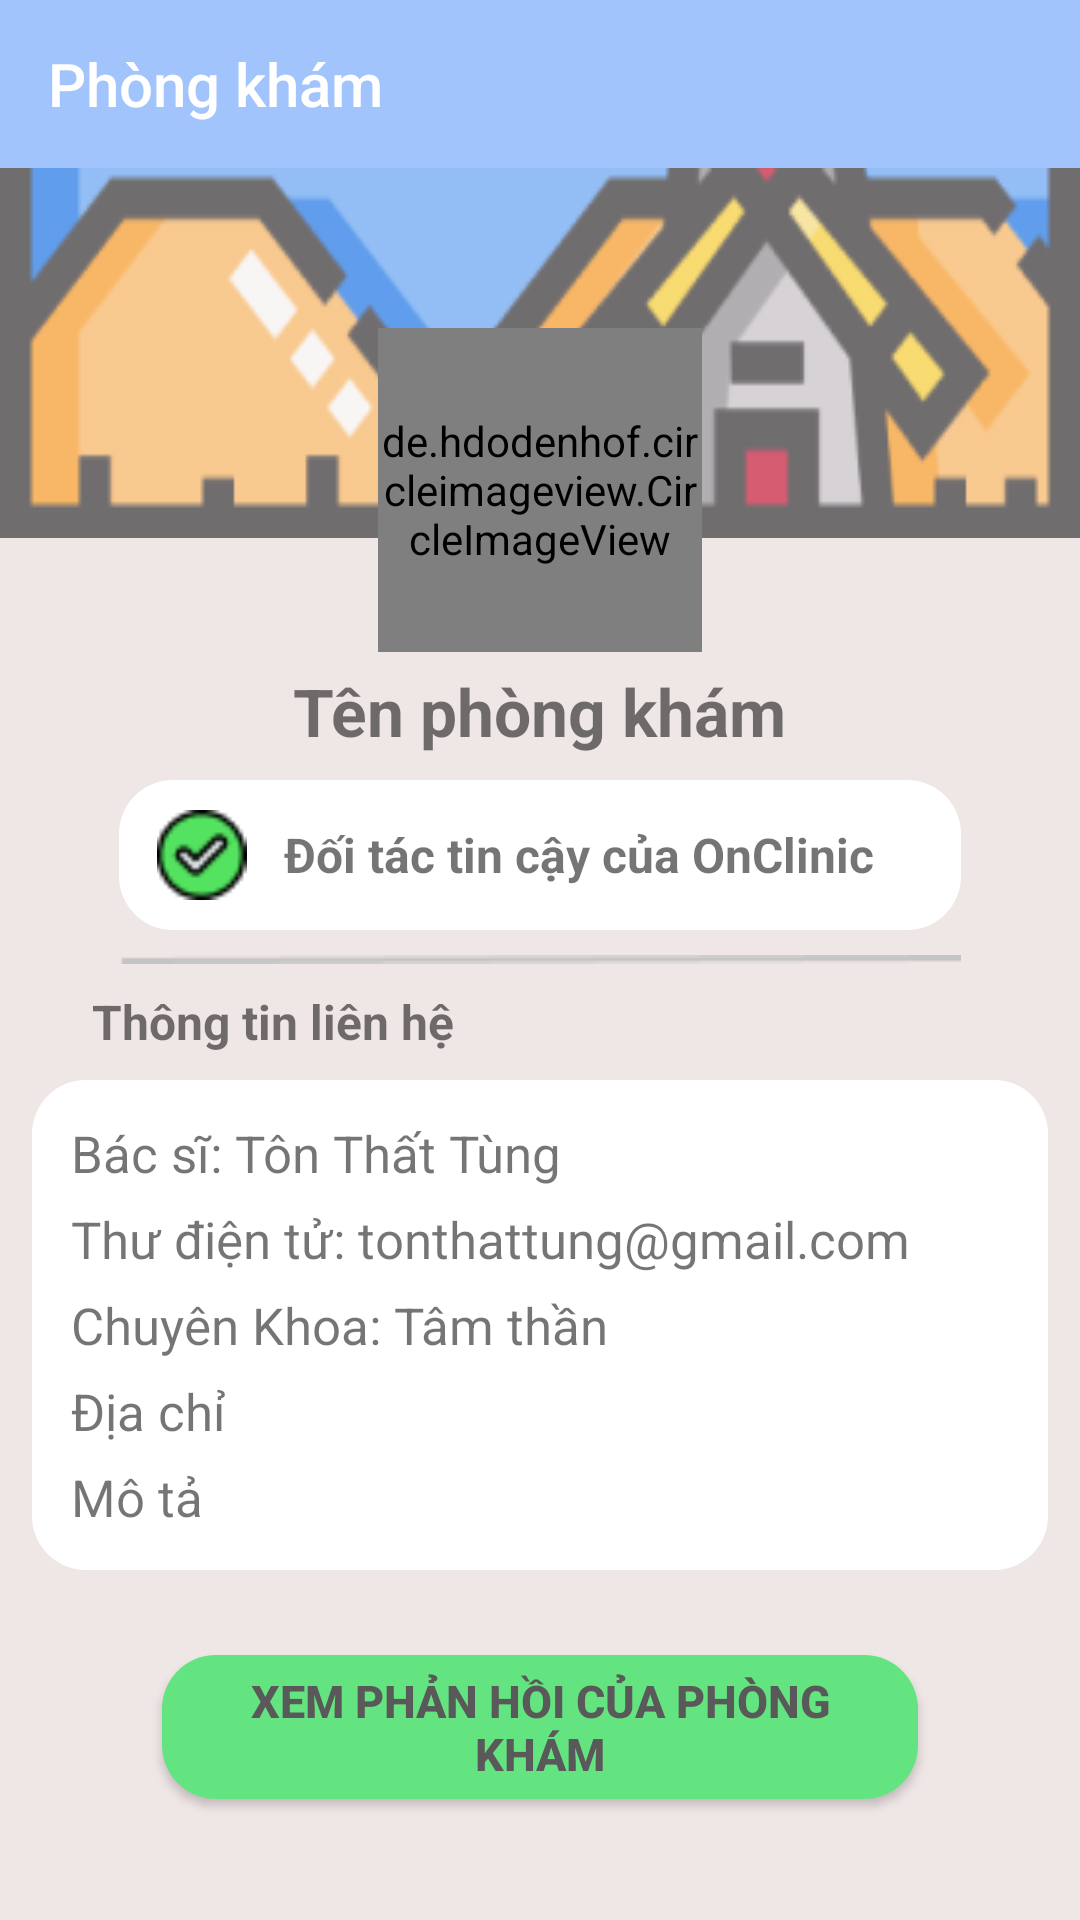

Screen size 1080px x 1920px. Icon name, then its center in pixels as point (x, y):
tick: point (202, 855)
